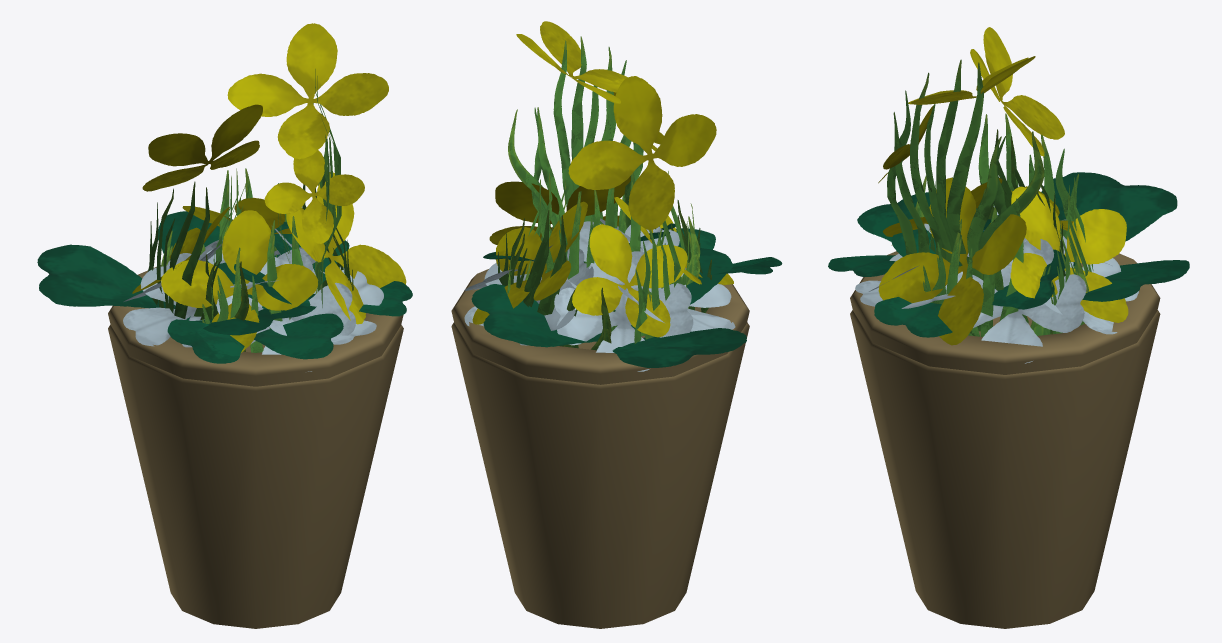
Rendered from Plantes_03.fbx.
3 renders of one model, left to right at view 1: azimuth 30°, elevation 25°; view 2: azimuth 150°, elevation 25°; view 3: azimuth 270°, elevation 25°, orthographic. The views are drawn at different scales.
Parts seen in each view (by area): view 1: SM_Pot_01, Plantees_jaunes2, SM_Pot_02, Fleurs_08; view 2: SM_Pot_01, Plantees_jaunes2, Fleurs_08, SM_Pot_02; view 3: SM_Pot_01, Plantees_jaunes2, SM_Pot_02, Fleurs_08.
Part boxes in pixels (box(x1,y1,x2,y2)): SM_Pot_01: box(108, 286, 403, 628); Plantees_jaunes2: box(37, 23, 412, 363); SM_Pot_02: box(108, 256, 403, 386); Fleurs_08: box(123, 183, 383, 371); SM_Pot_01: box(451, 322, 749, 628); Plantees_jaunes2: box(471, 21, 782, 367); Fleurs_08: box(464, 181, 735, 371); SM_Pot_02: box(451, 269, 749, 384); SM_Pot_01: box(850, 310, 1160, 628); Plantees_jaunes2: box(828, 27, 1189, 345); SM_Pot_02: box(850, 251, 1160, 374); Fleurs_08: box(855, 151, 1138, 363).
Bounding box in the file's own units: 37.9 × 60.79 × 36.78.
